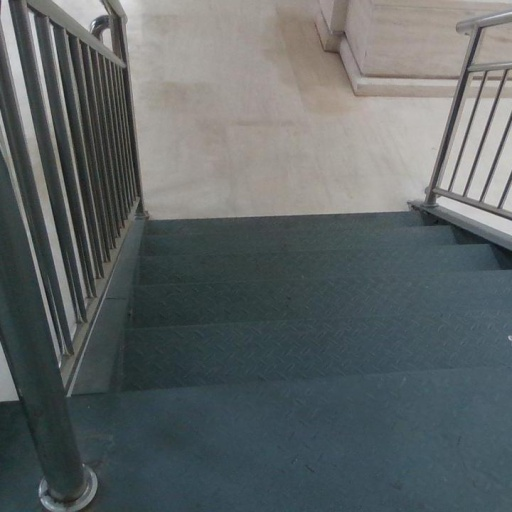Stairs: (71, 212, 512, 512)
